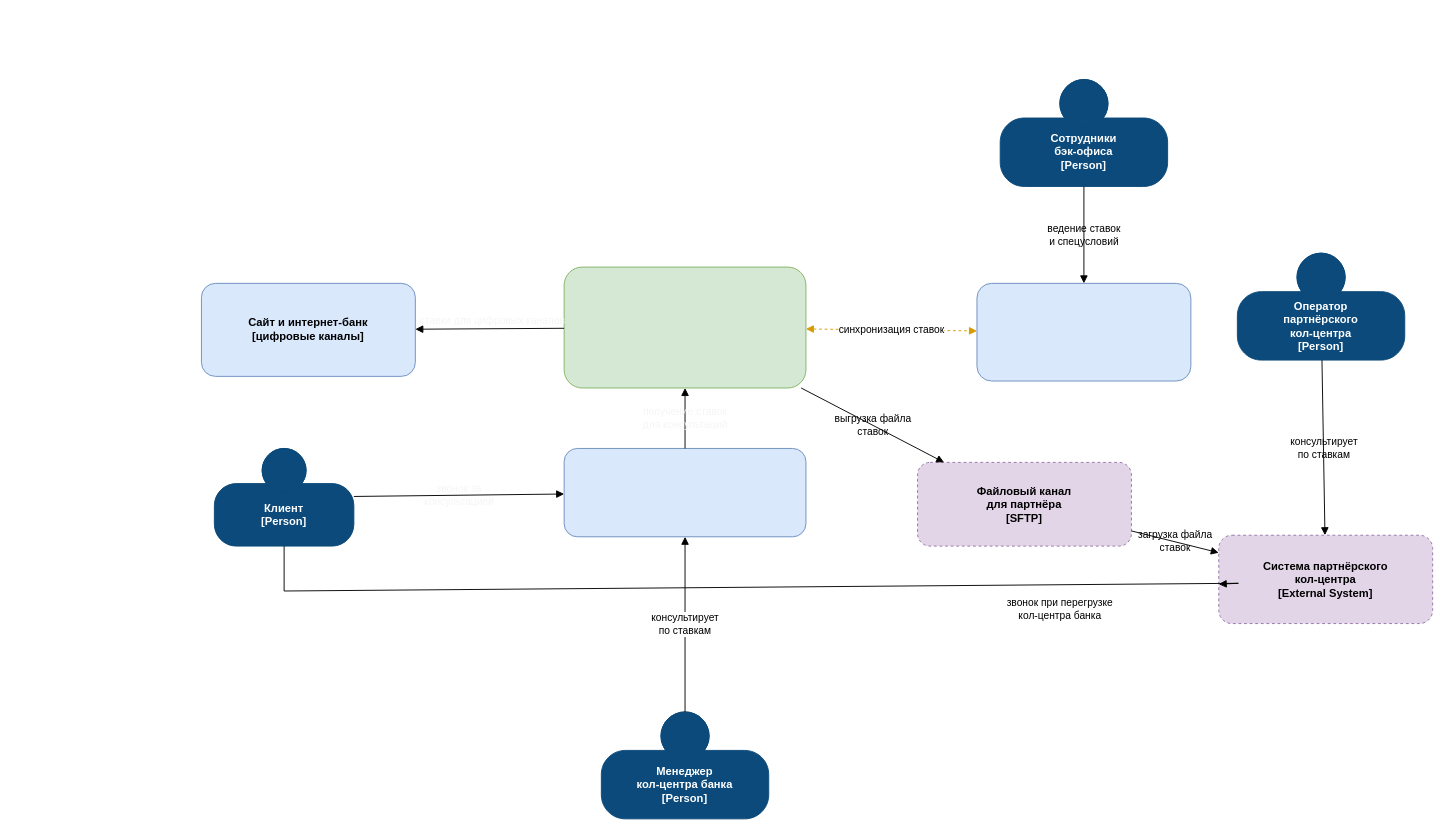
This 1450x835 diagram has some shape labels left out. Here are the shapes that lost their labels. From the top down, the centre of each, then its label:
At point 684,327: "Сервис депозитных заявок MVP модуль ставок [Java Spring Boot]".
At point 1083,331: "АБС источник ставок [Oracle / PL-SQL]".
At point 684,492: "Система кол-центра банка [Java Spring]".
